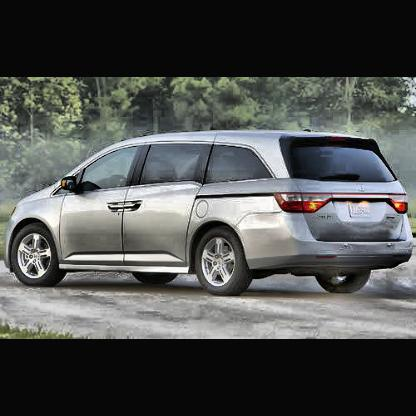Honda Odyssey Minivan 2012: (2, 129, 416, 297)
